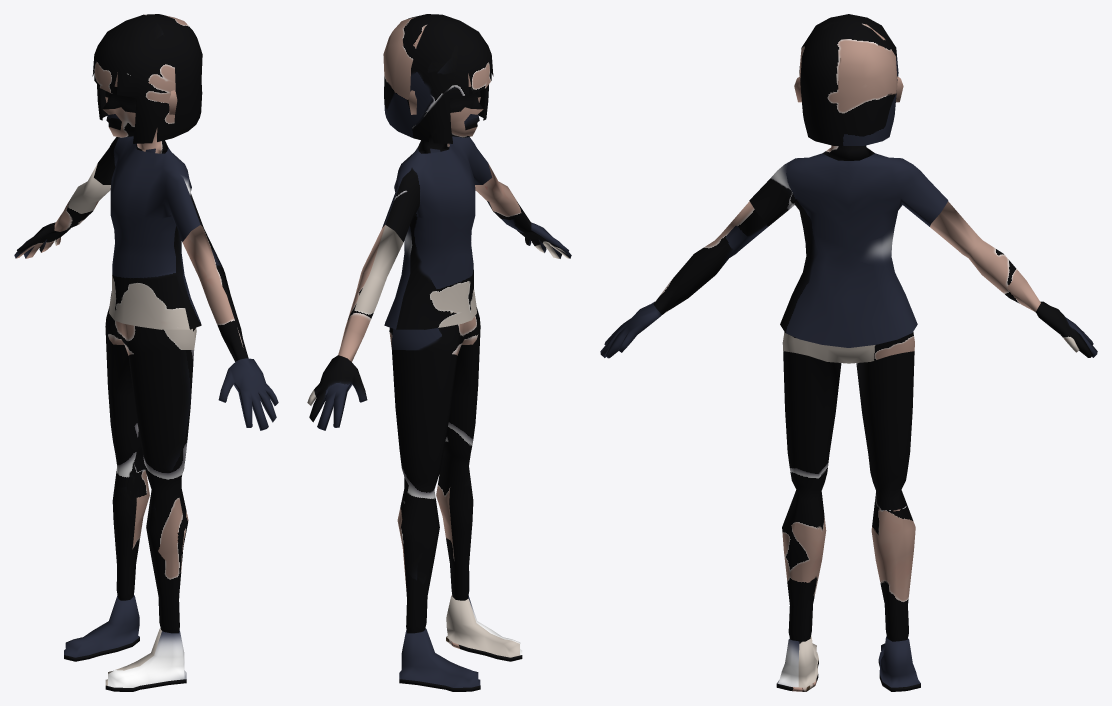
File: hairGirl2.obj
The picture shows the model from 3 angles, left to right: view 1: azimuth 30°, elevation 25°; view 2: azimuth 150°, elevation 25°; view 3: azimuth 270°, elevation 25°; orthographic projection. The views are drawn at different scales.
Parts seen in each view (by area): view 1: hair.001; view 2: hair.001; view 3: hair.001.
Boxes of the visible parts, left/top/right/bottom form: hair.001: left=14, top=14, right=278, bottom=691; hair.001: left=307, top=14, right=571, bottom=691; hair.001: left=600, top=14, right=1097, bottom=691.
Bounding box in the file's own units: 0.3078 × 1.7 × 1.15.
5 materials, 5 textured.
